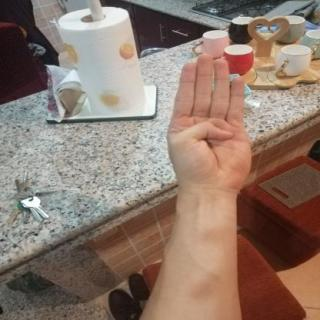KAAF: (155, 44, 270, 204)
